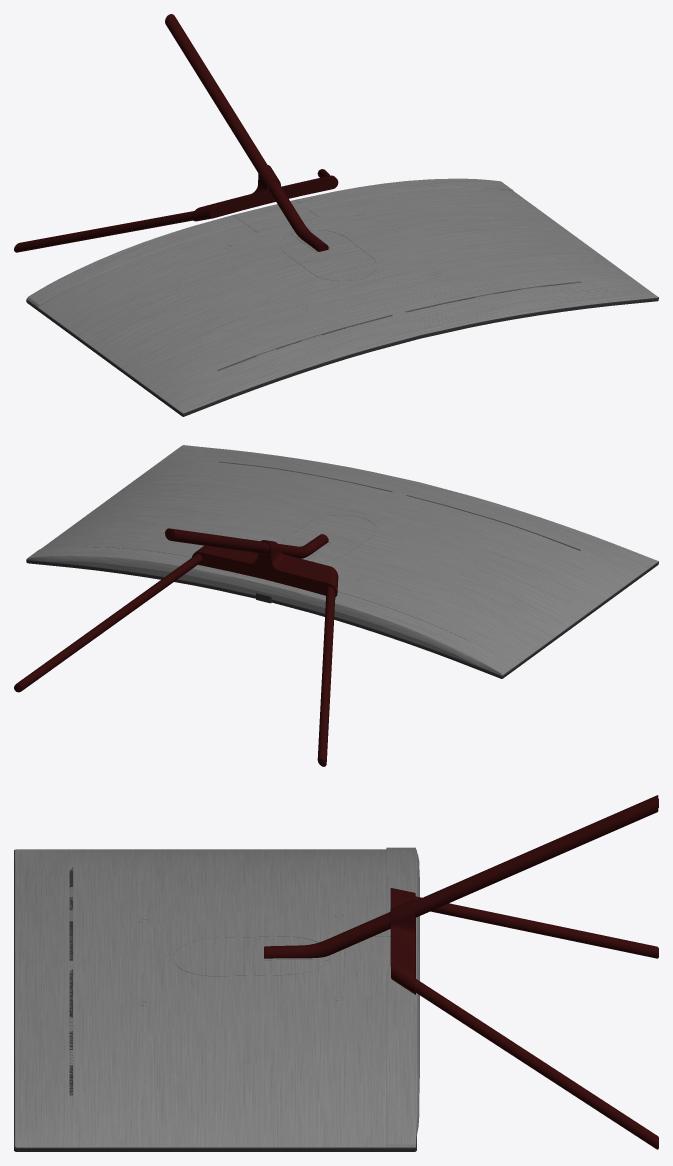
The model's file is Samsung_QLED_55__Studio_Stand_mat(1).obj.
3 views of the same model, one above another, from view 1: azimuth 30°, elevation 25°; view 2: azimuth 150°, elevation 25°; view 3: azimuth 270°, elevation 25° (orthographic). The views are drawn at different scales.
Parts seen in each view (by area): view 1: Samsung_QLED_55__Studio_Stand_mat1; view 2: Samsung_QLED_55__Studio_Stand_mat1; view 3: Samsung_QLED_55__Studio_Stand_mat1.
Part boxes in pixels (x1,y1,x2,y2): Samsung_QLED_55__Studio_Stand_mat1: [14, 14, 658, 416]; Samsung_QLED_55__Studio_Stand_mat1: [14, 445, 658, 766]; Samsung_QLED_55__Studio_Stand_mat1: [14, 795, 658, 1151].
Bounding box in the file's own units: 144 × 57.98 × 131.
